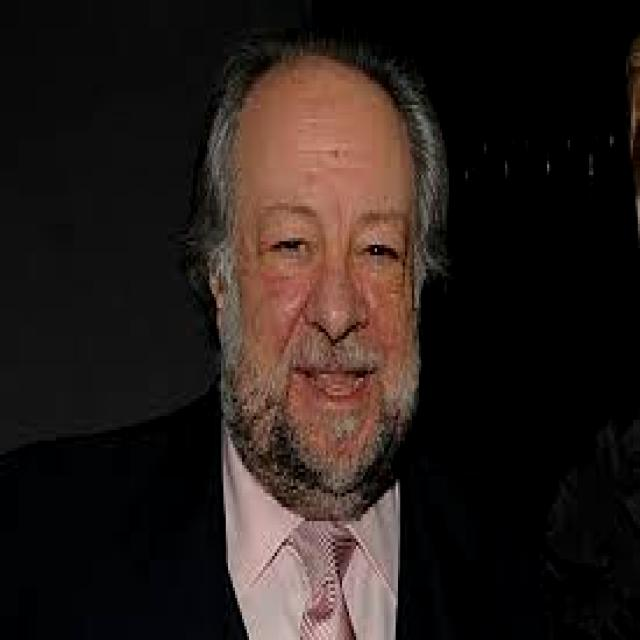normal_face: (222, 74, 428, 496)
